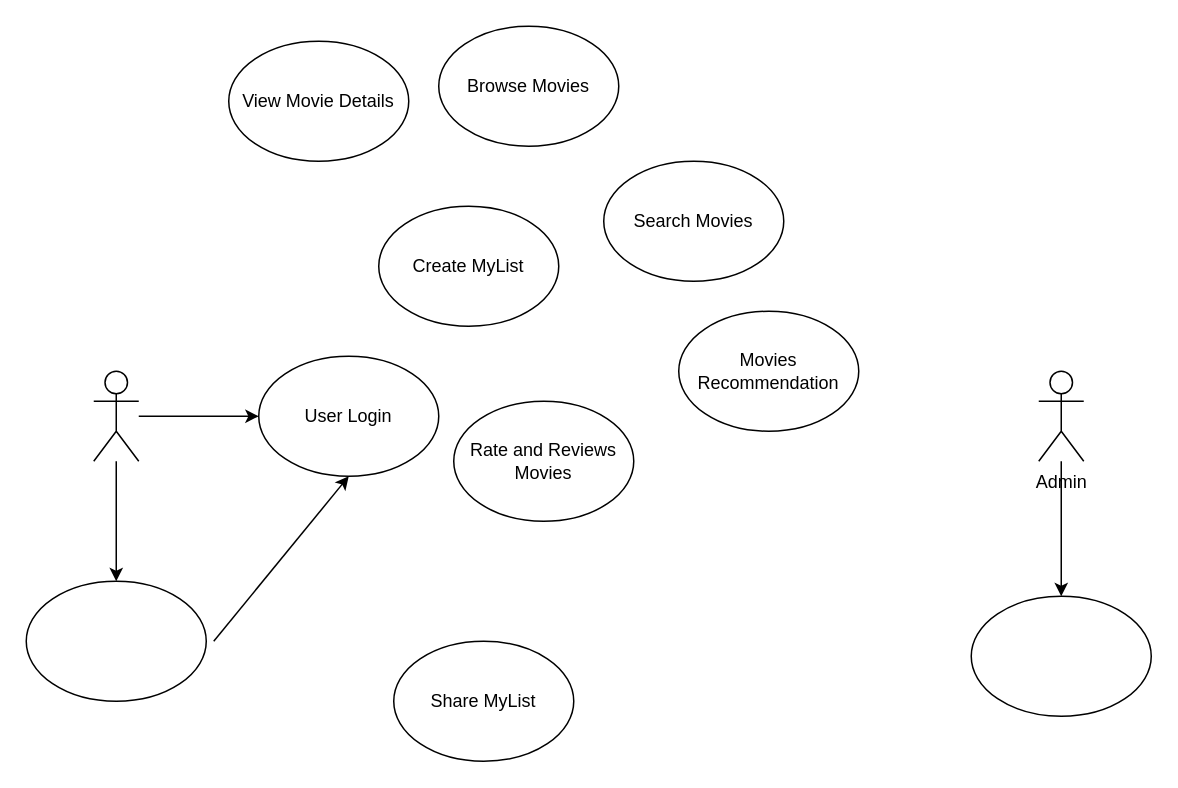
This 1178x788 diagram has some shape labels left out. The centre of each missing label's shape, as x and y in pixels:
"Manage Database" belongs at pixel 1060 655.
"User" belongs at pixel 115 415.
"User Registration" belongs at pixel 115 640.
